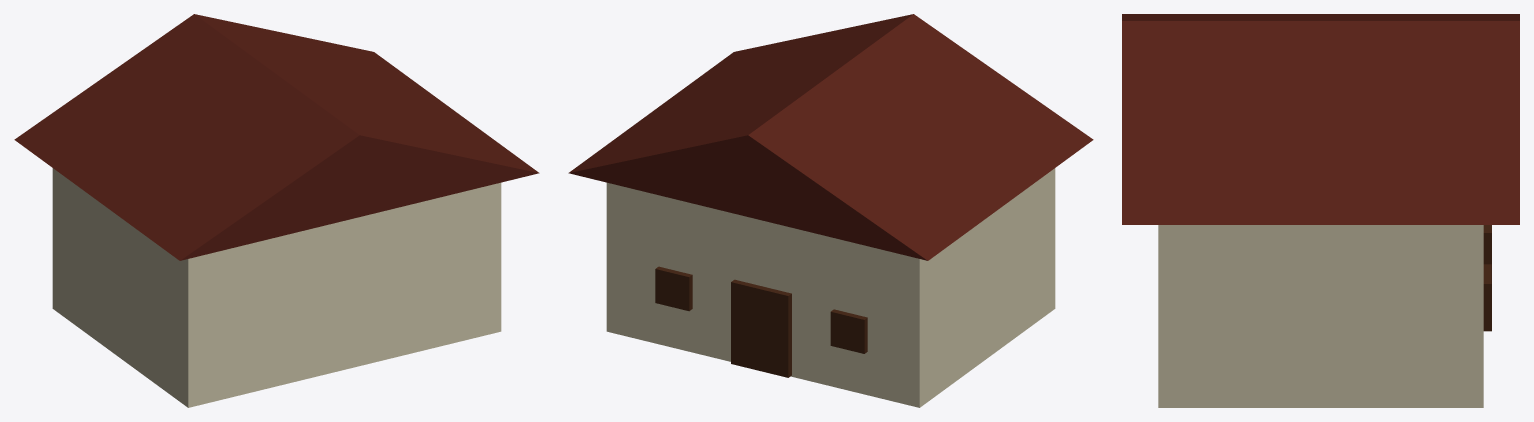
Rendered from house_large.obj.
The picture shows the model from 3 angles, left to right: view 1: azimuth 30°, elevation 25°; view 2: azimuth 150°, elevation 25°; view 3: azimuth 270°, elevation 25°; orthographic projection. The views are drawn at different scales.
Parts seen in each view (by area): view 1: house_large; view 2: house_large; view 3: house_large.
Part boxes in pixels (x1,y1,x2,y2): house_large: (14, 14, 539, 407); house_large: (568, 14, 1093, 407); house_large: (1122, 14, 1519, 407).
Size of the model in its own units: 13.8 by 9 by 11.
